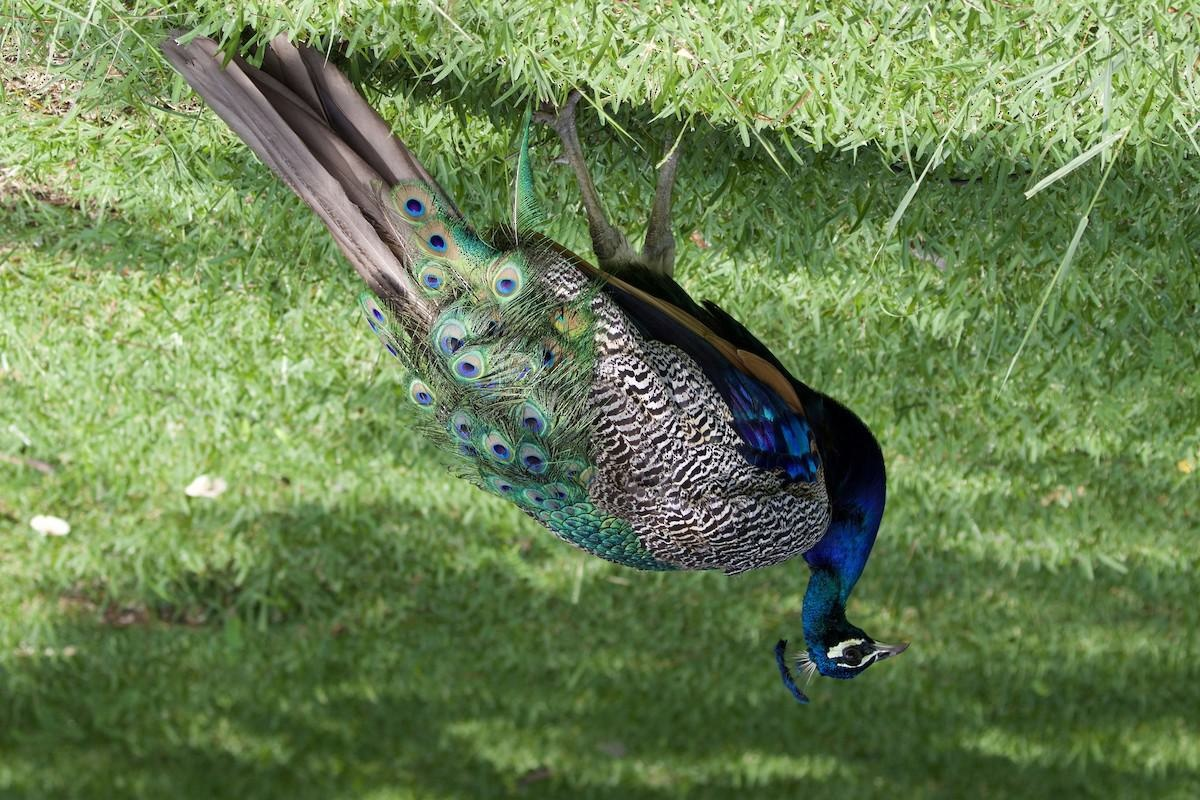peacock: (257, 60, 911, 710)
